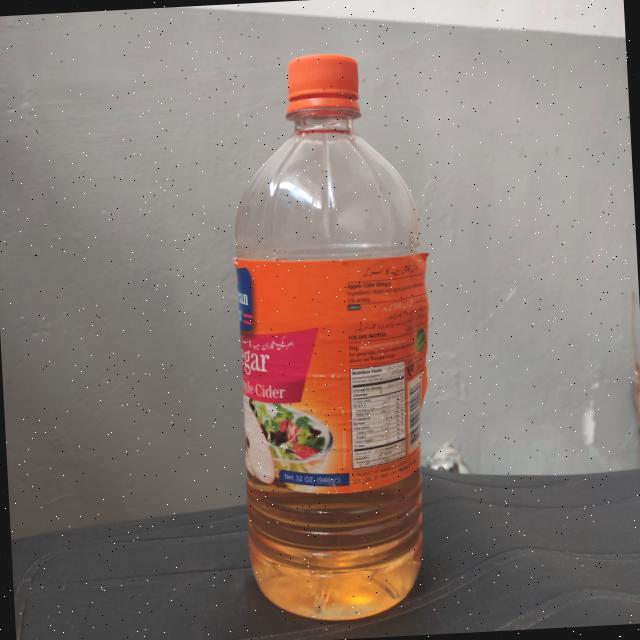bottle: (210, 44, 444, 606)
cap: (280, 52, 365, 122)
label: (230, 253, 432, 487)
